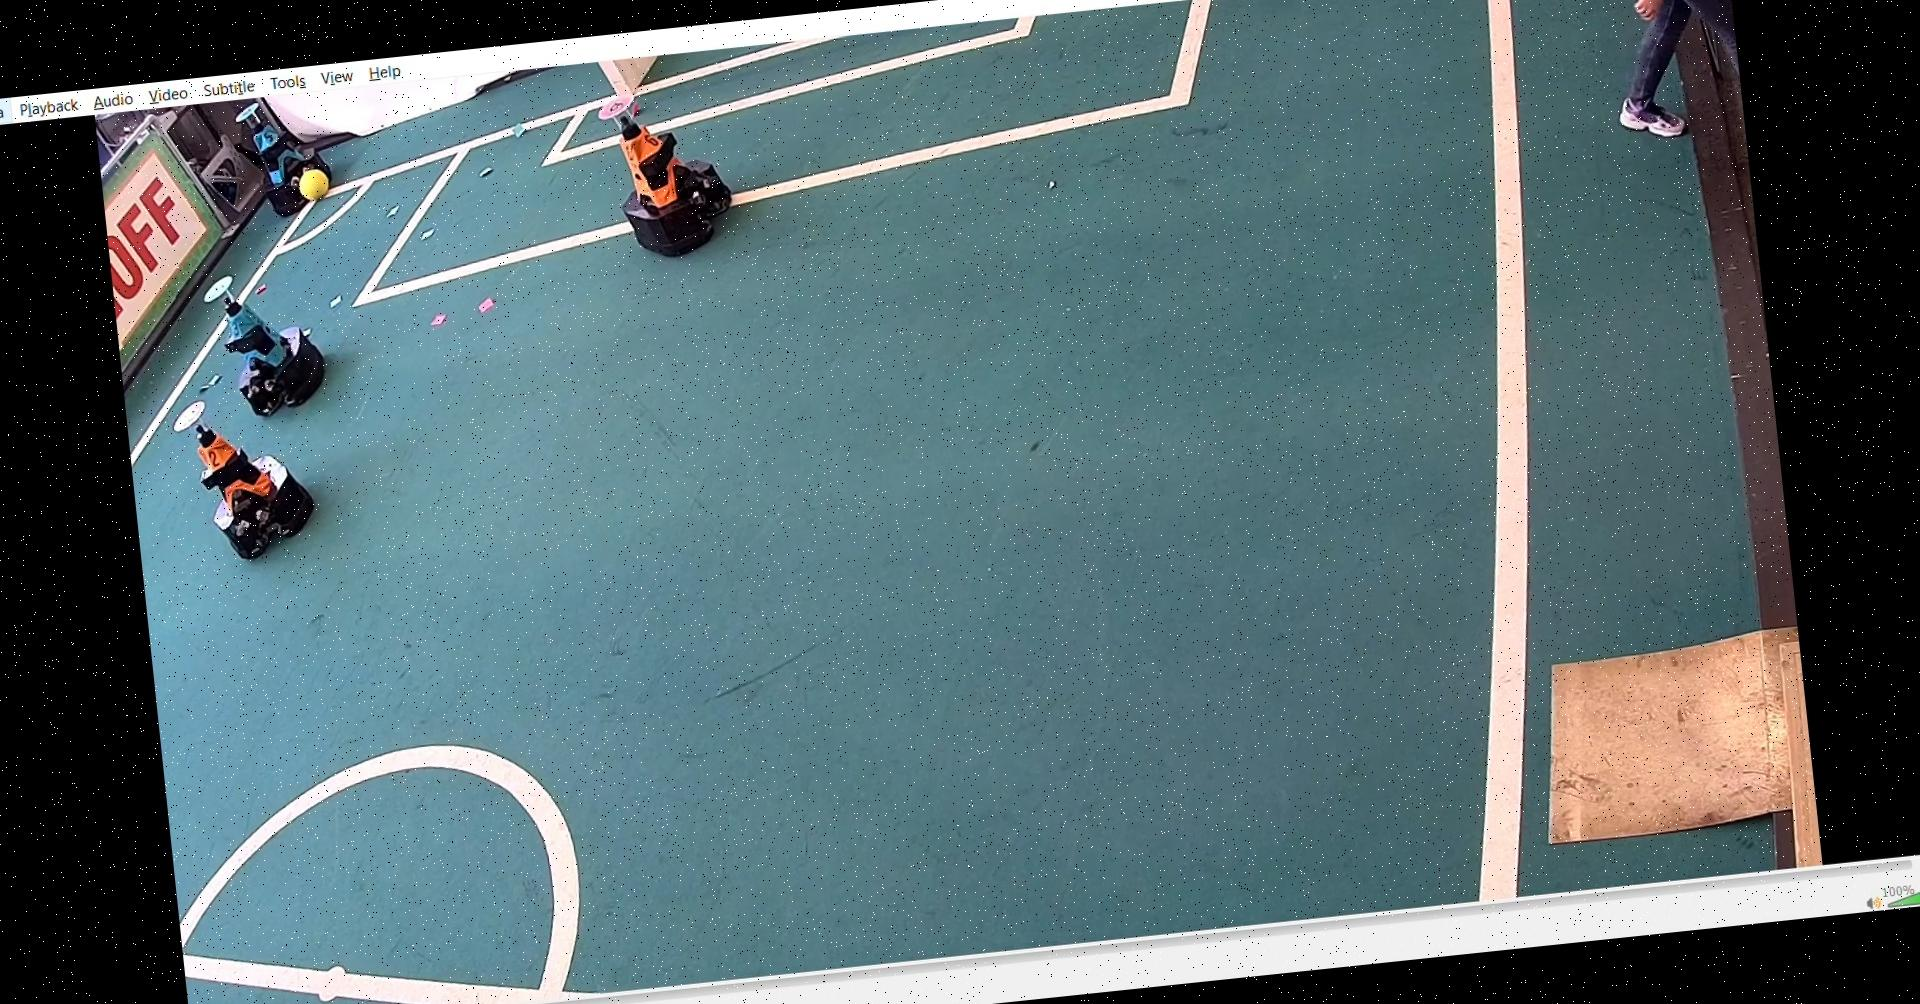Ball: (287, 152, 331, 201)
Team_Blue: (196, 261, 333, 418), (230, 99, 342, 220)
Team_Red: (589, 74, 748, 267), (173, 390, 330, 567)
